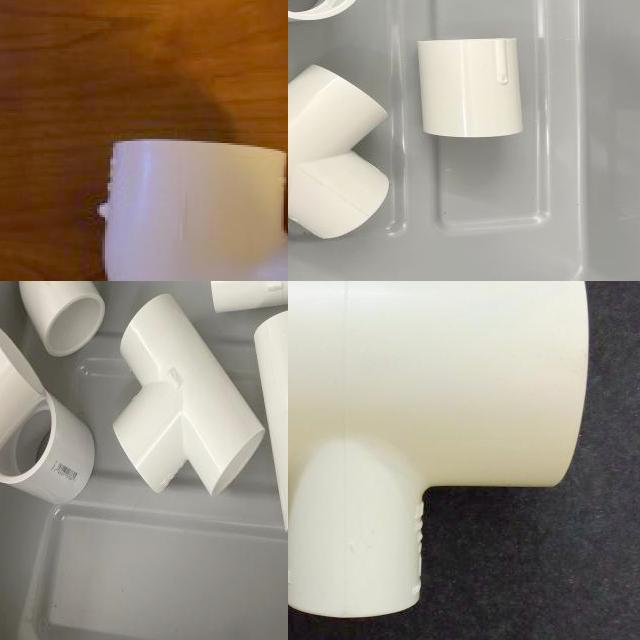L Joint: (97, 139, 288, 281), (17, 281, 106, 358)
T Joint: (288, 281, 590, 621), (111, 294, 266, 498), (288, 66, 391, 243), (252, 312, 288, 533)
